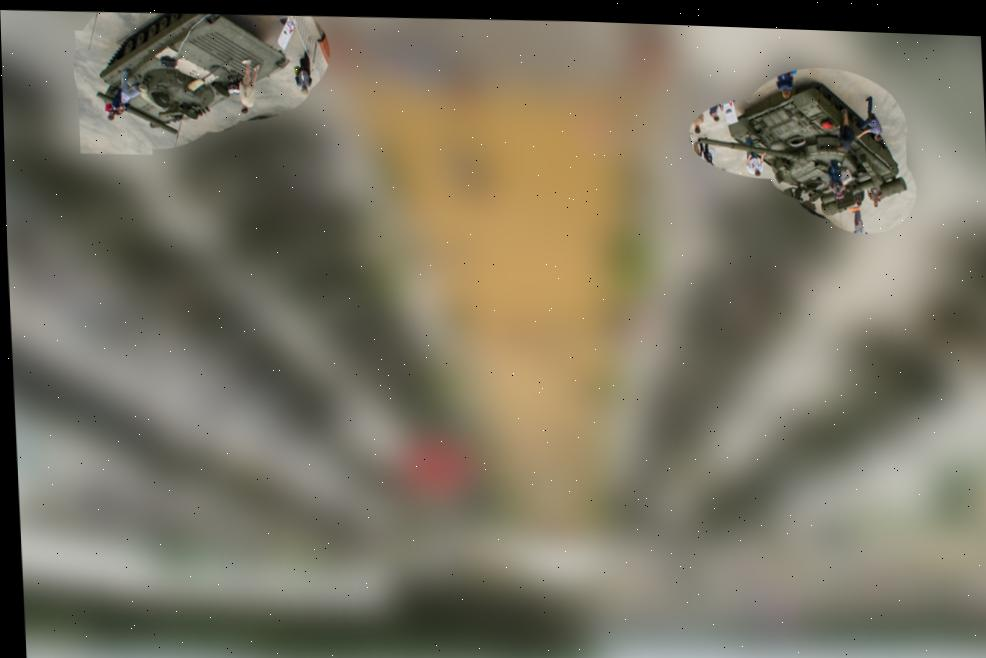armored_car: (84, 7, 293, 139)
tank: (691, 73, 911, 222)
